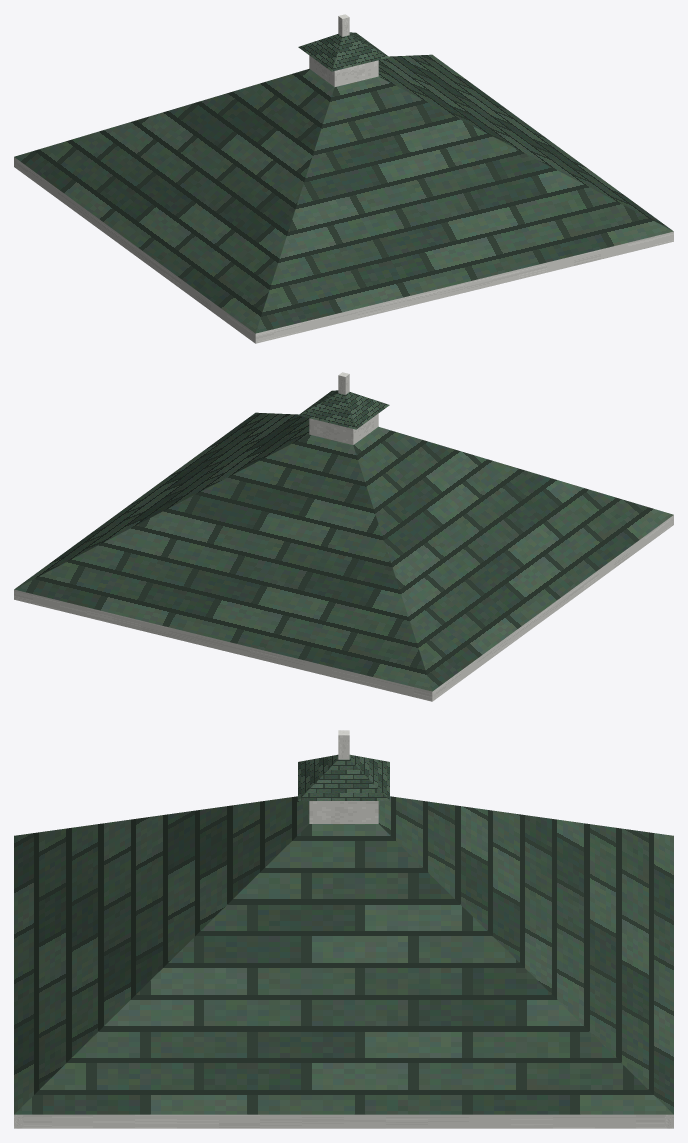
File: gazebo_roof_5x5.obj
The picture shows the model from 3 angles, top to bottom: view 1: azimuth 30°, elevation 25°; view 2: azimuth 150°, elevation 25°; view 3: azimuth 270°, elevation 25°; orthographic projection. The views are drawn at different scales.
Visible parts, largest first — view 1: gazebo_roof; view 2: gazebo_roof; view 3: gazebo_roof.
Part boxes in pixels (box(x1,y1,x2,y2)): gazebo_roof: box(14, 14, 673, 343); gazebo_roof: box(14, 372, 673, 701); gazebo_roof: box(14, 730, 673, 1128).
Bounding box in the file's own units: 5.38 × 2.3 × 5.38.
